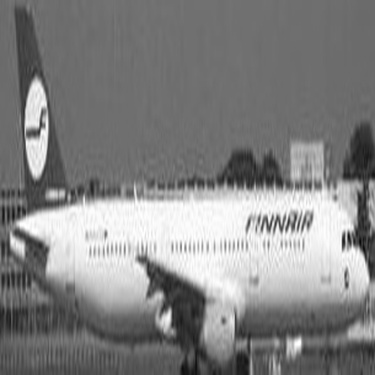airplane: (1, 3, 368, 369)
